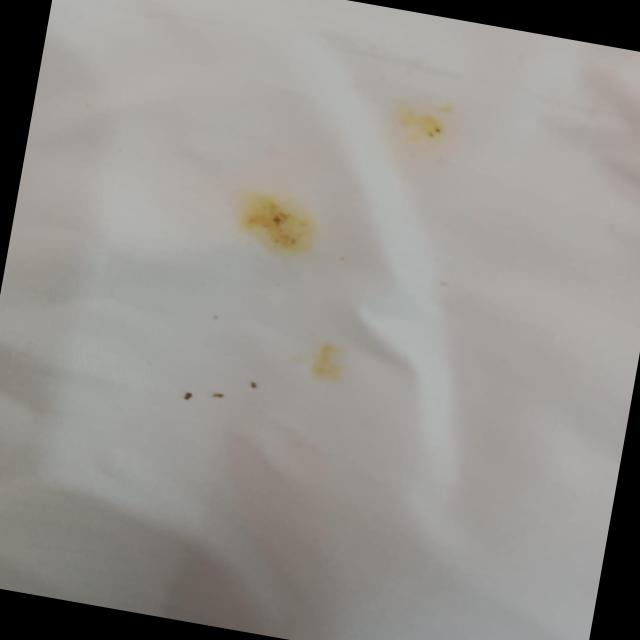stain: (230, 184, 326, 262), (170, 358, 274, 422), (390, 84, 474, 157), (294, 331, 366, 390)
